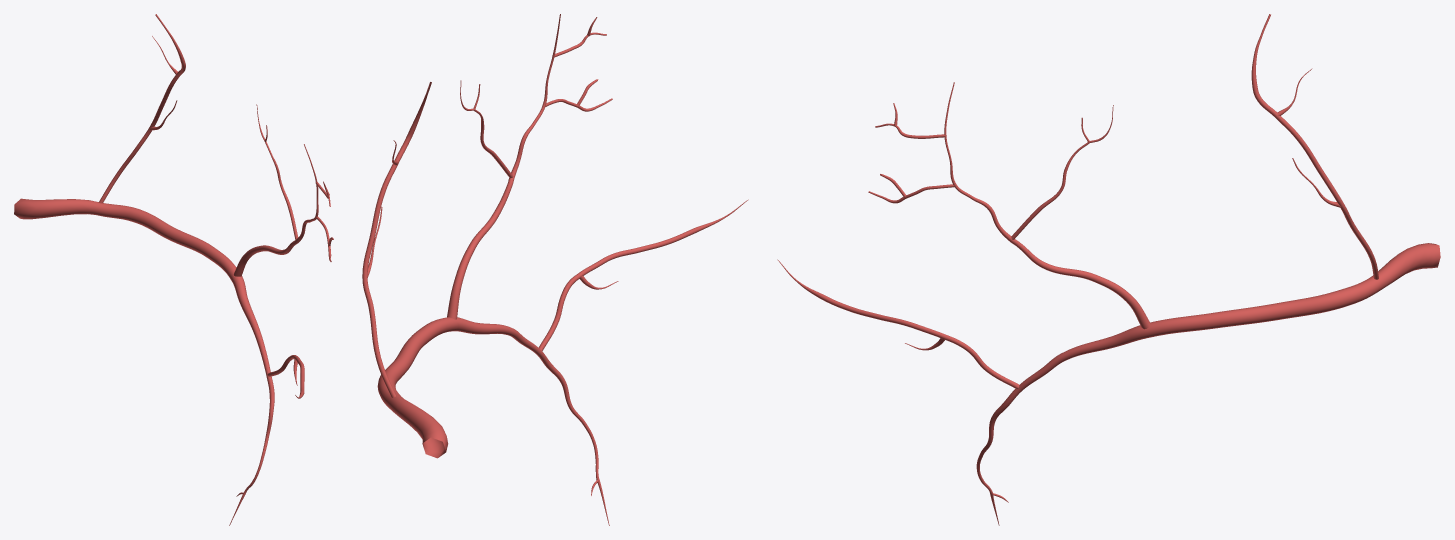
The picture shows the model from 3 angles, left to right: view 1: azimuth 30°, elevation 25°; view 2: azimuth 150°, elevation 25°; view 3: azimuth 270°, elevation 25°; orthographic projection. The views are drawn at different scales.
Visible parts, largest first — view 1: 左侧颞浅动脉; view 2: 左侧颞浅动脉; view 3: 左侧颞浅动脉.
Boxes of the visible parts, x1,y1,x2,y2 form: 左侧颞浅动脉: (14,14,333,525); 左侧颞浅动脉: (362,14,748,525); 左侧颞浅动脉: (777,14,1440,525).
Size of the model in its own units: 0.0487 by 0.164 by 0.185.
